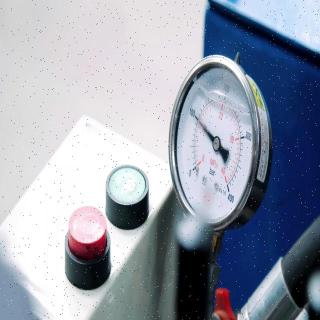gauge: (170, 51, 270, 235), (220, 176, 232, 195), (189, 160, 203, 173), (212, 136, 221, 154), (202, 124, 208, 134)
